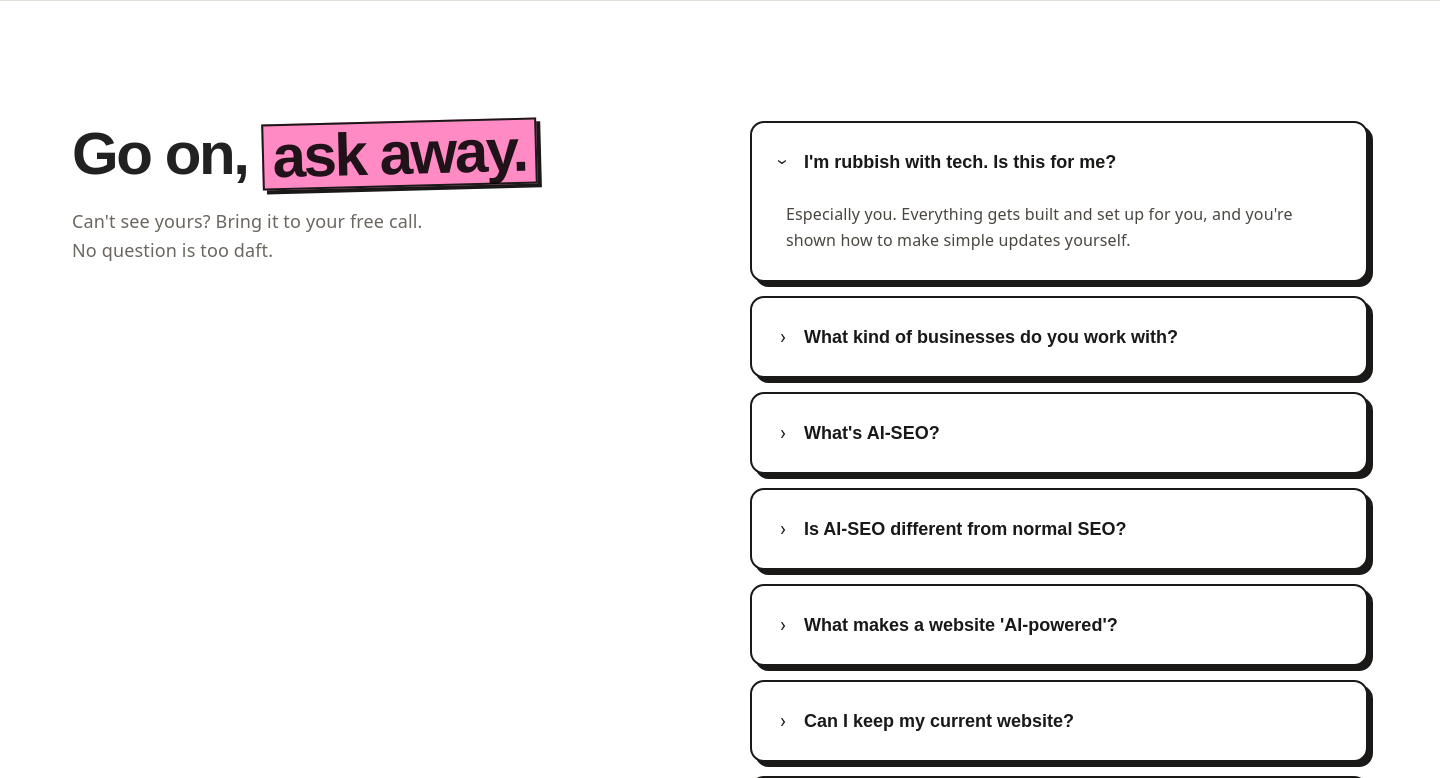
Scenario: Faq › opens a selected question
Click the button "What kind of businesses do you work with?" at [1059, 337], box [752,298,1366,376]
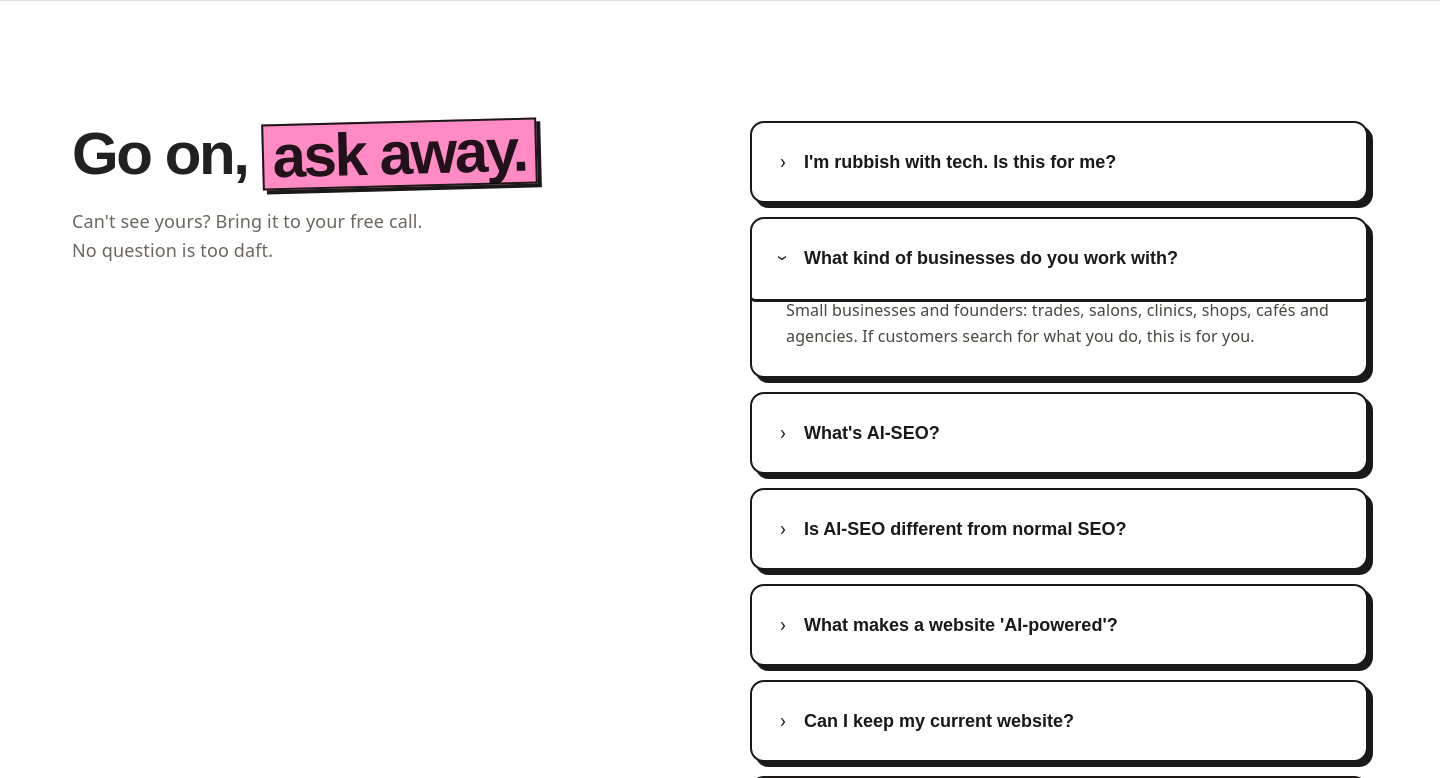
Now the button "What kind of businesses do you work with?" is expanded, box [752,219,1366,297]
